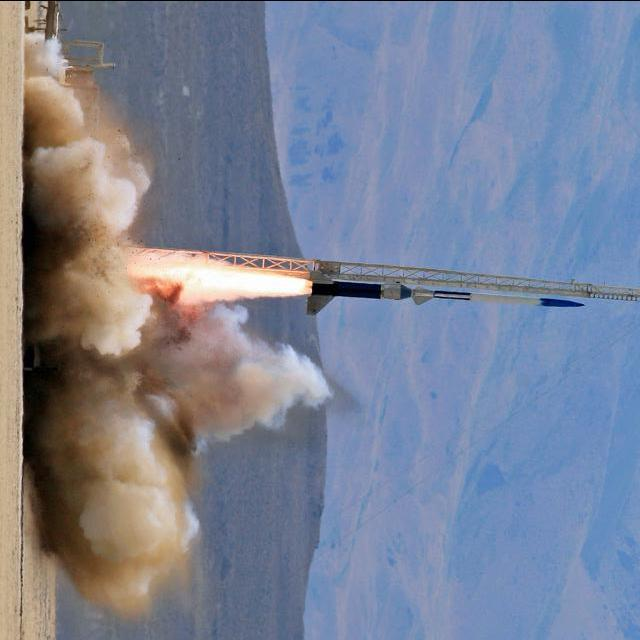Missile: (307, 278, 587, 314), (464, 290, 590, 312)
